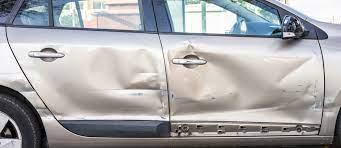doorouter-dent: (169, 33, 323, 124), (23, 32, 169, 123)
